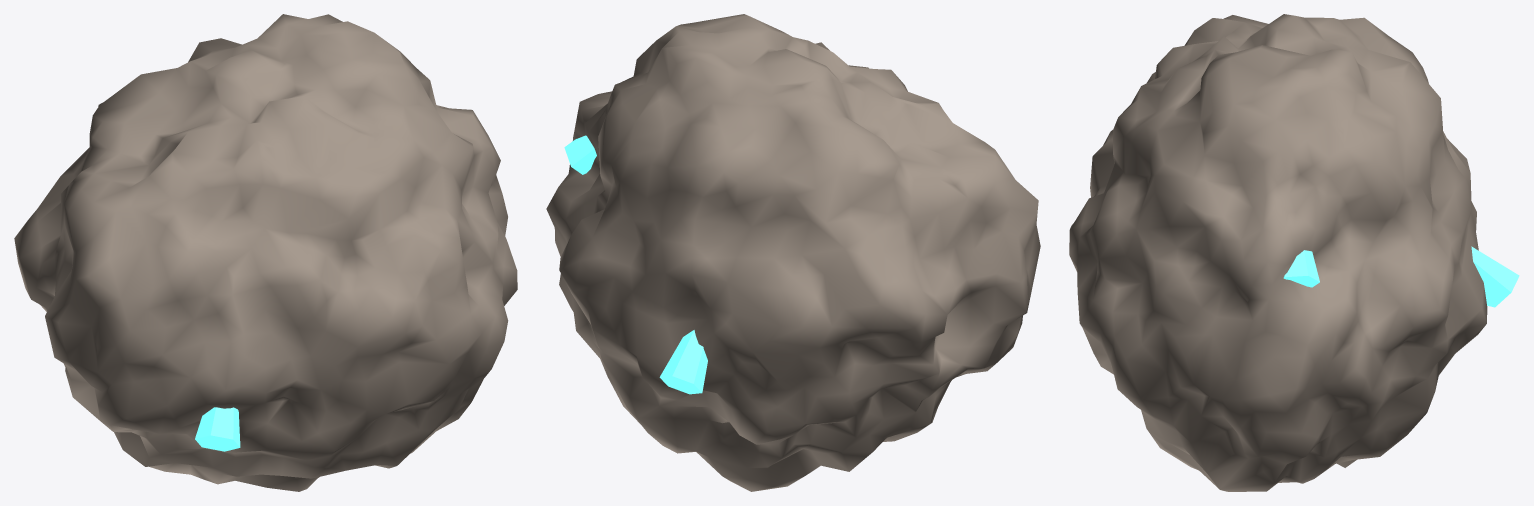
Rendered from asteroid3.glb.
The picture shows the model from 3 angles, left to right: view 1: azimuth 30°, elevation 25°; view 2: azimuth 150°, elevation 25°; view 3: azimuth 270°, elevation 25°; orthographic projection. The views are drawn at different scales.
Visible parts, largest first — view 1: Icosphere, cr; view 2: Icosphere, cr.002, cr.001; view 3: Icosphere, cr.002, cr.001.
Boxes of the visible parts, x1,y1,x2,y2 form: Icosphere: (14,14,517,491); cr: (195,407,240,451); Icosphere: (546,14,1040,491); cr.002: (659,330,707,394); cr.001: (564,135,596,174); Icosphere: (1069,14,1487,491); cr.002: (1471,246,1519,307); cr.001: (1283,250,1319,287).
Size of the model in its own units: 2.76 by 2.46 by 2.29.
